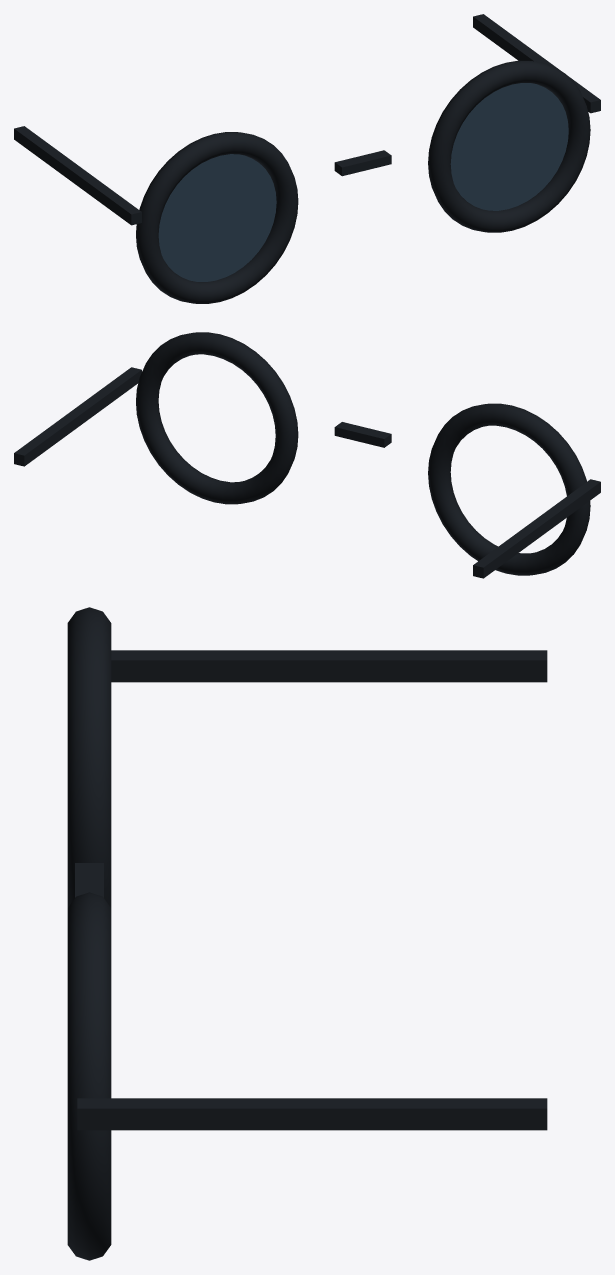
Rendered from glasses_round.glb.
3 renders of one model, top to bottom at view 1: azimuth 30°, elevation 25°; view 2: azimuth 150°, elevation 25°; view 3: azimuth 270°, elevation 25°, orthographic. The views are drawn at different scales.
Visible parts, largest first — view 1: right-lens, left-lens, right-round-frame, left-round-frame, left-temple, right-temple, bridge; view 2: right-round-frame, left-round-frame, left-temple, right-temple, bridge; view 3: right-temple, right-round-frame, left-temple, left-round-frame, bridge.
Part boxes in pixels (box(x1,y1,x2,y2)): right-lens: box(450, 83, 568, 210); left-lens: box(158, 154, 276, 281); right-round-frame: box(428, 60, 590, 232); left-round-frame: box(136, 132, 298, 303); left-temple: box(14, 126, 141, 225); right-temple: box(473, 14, 600, 113); bridge: box(334, 150, 391, 176); right-round-frame: box(136, 332, 298, 504); left-round-frame: box(428, 403, 590, 575); left-temple: box(473, 479, 600, 578); right-temple: box(14, 367, 141, 466); bridge: box(334, 422, 391, 447); right-temple: box(77, 1098, 547, 1130); right-round-frame: box(67, 892, 111, 1260); left-temple: box(111, 650, 547, 682); left-round-frame: box(67, 607, 111, 907); bridge: box(75, 863, 103, 897).
Bounding box in the file's own units: 9 × 3.06 × 3.98.
